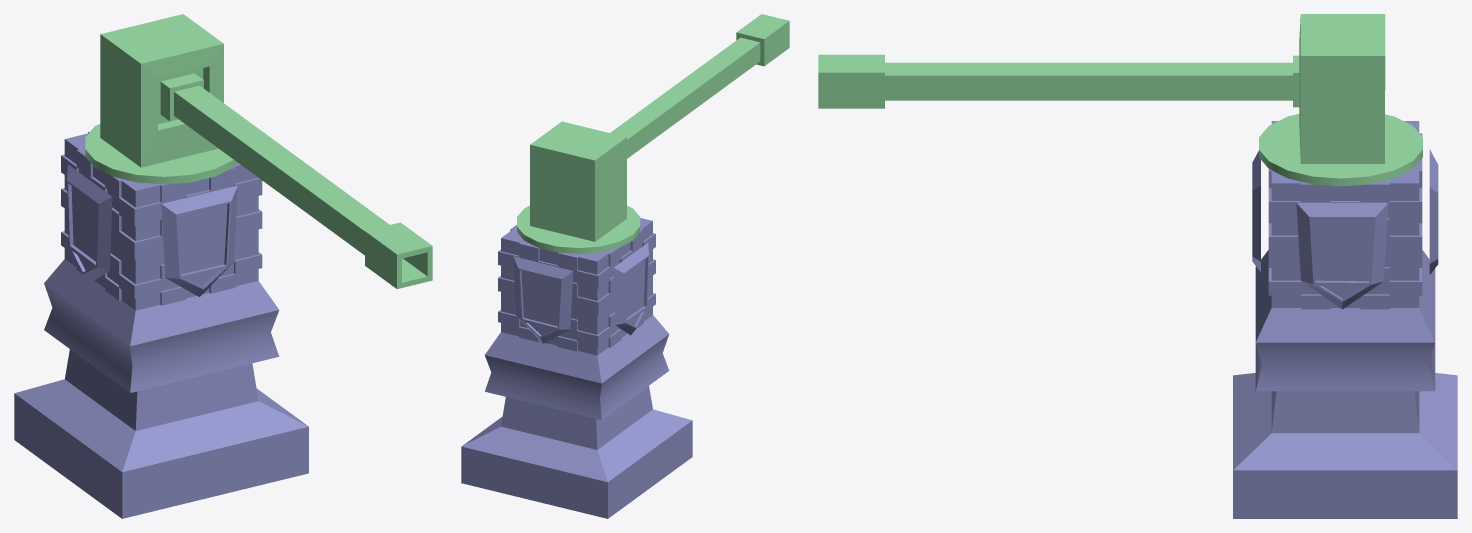
The model's file is def_slow.fbx.
The picture shows the model from 3 angles, left to right: view 1: azimuth 30°, elevation 25°; view 2: azimuth 150°, elevation 25°; view 3: azimuth 270°, elevation 25°; orthographic projection. The views are drawn at different scales.
Parts seen in each view (by area): view 1: Box001, Object001; view 2: Box001, Object001; view 3: Box001, Object001.
Boxes of the visible parts, box(x1,y1,x2,y2) form: Box001: box(14, 131, 308, 518); Object001: box(85, 14, 432, 288); Box001: box(461, 218, 692, 518); Object001: box(517, 14, 789, 253); Box001: box(1233, 121, 1457, 518); Object001: box(818, 14, 1422, 186).
Size of the model in its own units: 130 by 369 by 278.
